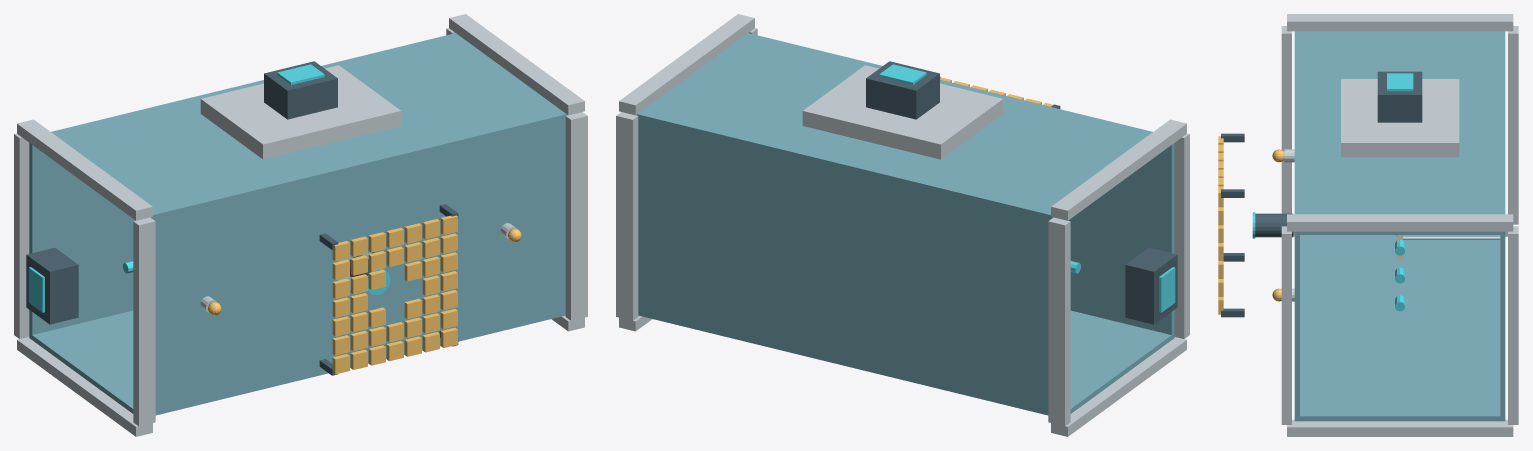
The model's file is STANDOFF-TRACE-rig.glb.
3 views of the same model, side by side, from view 1: azimuth 30°, elevation 25°; view 2: azimuth 150°, elevation 25°; view 3: azimuth 270°, elevation 25° (orthographic). The views are drawn at different scales.
Visible parts, largest first — view 1: wall, metal, amber, dark, cyan; view 2: wall, metal, dark, cyan; view 3: wall, metal, dark, amber, cyan.
Part boxes in pixels (x1=…): wall: x1=29, y1=33, x2=567, y2=415; metal: x1=14, y1=14, x2=587, y2=436; amber: x1=208, y1=215, x2=521, y2=374; dark: x1=26, y1=61, x2=458, y2=375; cyan: x1=28, y1=64, x2=390, y2=312; wall: x1=636, y1=33, x2=1174, y2=415; metal: x1=616, y1=14, x2=1189, y2=436; dark: x1=866, y1=61, x2=1177, y2=324; cyan: x1=879, y1=64, x2=1175, y2=312; wall: x1=1294, y1=31, x2=1505, y2=421; metal: x1=1281, y1=14, x2=1518, y2=436; dark: x1=1221, y1=71, x2=1422, y2=317; amber: x1=1218, y1=136, x2=1396, y2=314; cyan: x1=1252, y1=73, x2=1413, y2=311.
Size of the model in its own units: 0.408 by 0.211 by 0.228.
